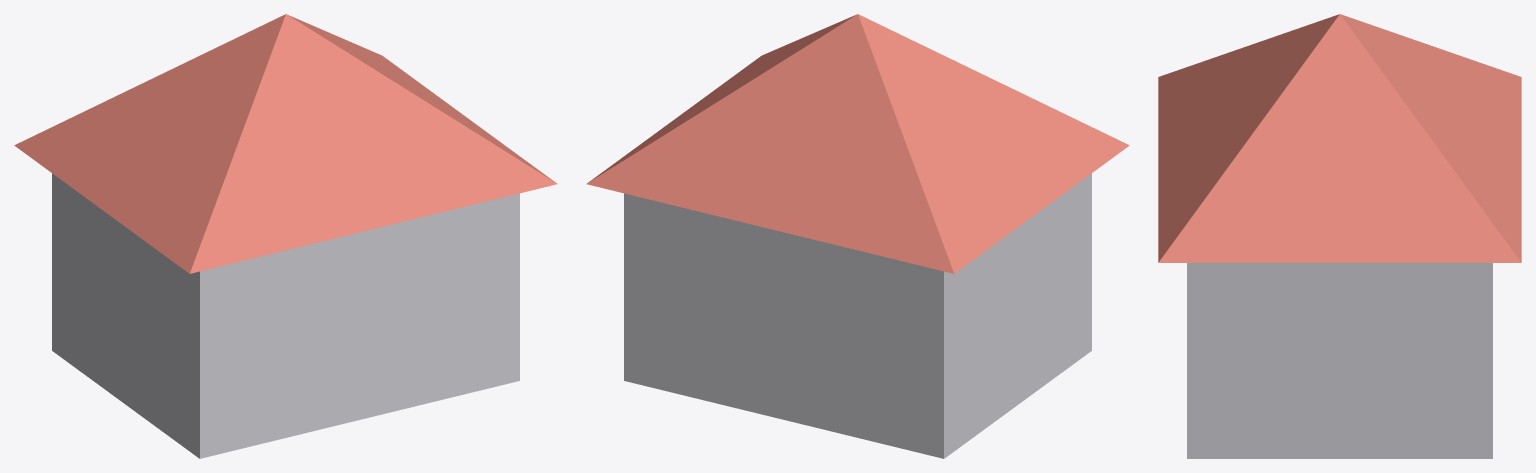
Rendered from haus.glb.
3 views of the same model, side by side, from view 1: azimuth 30°, elevation 25°; view 2: azimuth 150°, elevation 25°; view 3: azimuth 270°, elevation 25° (orthographic). The views are drawn at different scales.
Visible parts, largest first — view 1: Sockel, Dach; view 2: Sockel, Dach; view 3: Dach, Sockel.
Part boxes in pixels (<box>): Sockel: <box>52,173,519,458</box>; Dach: <box>14,14,557,273</box>; Sockel: <box>624,173,1091,458</box>; Dach: <box>586,14,1129,273</box>; Dach: <box>1158,14,1521,262</box>; Sockel: <box>1187,263,1492,458</box>.
Size of the model in its own units: 2.3 by 2.1 by 1.9.
